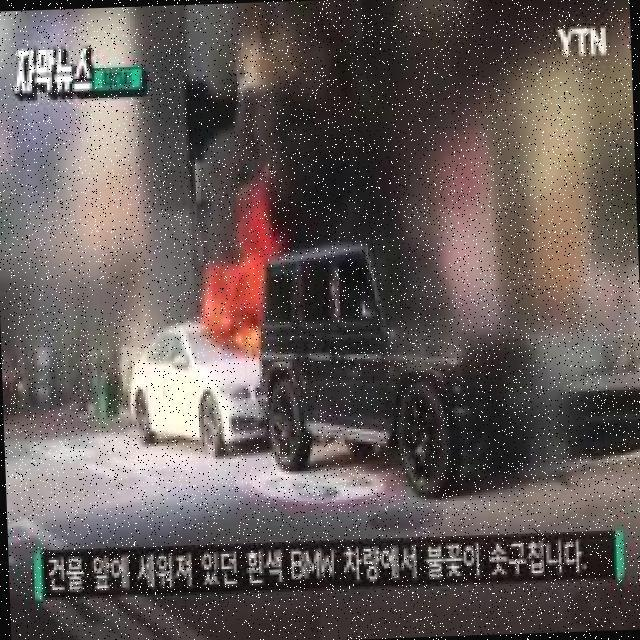Fire: (202, 229, 278, 354)
